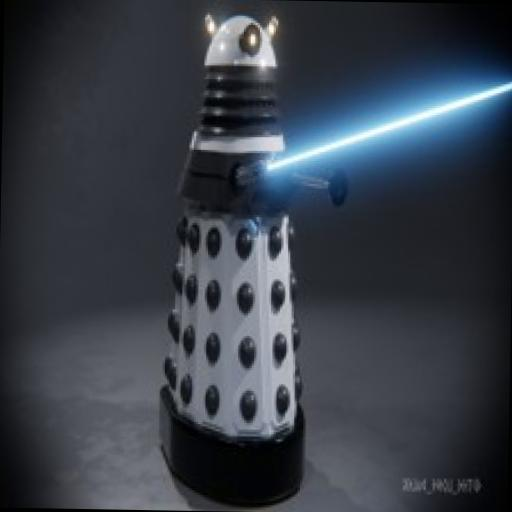dalek: (150, 7, 361, 512)
